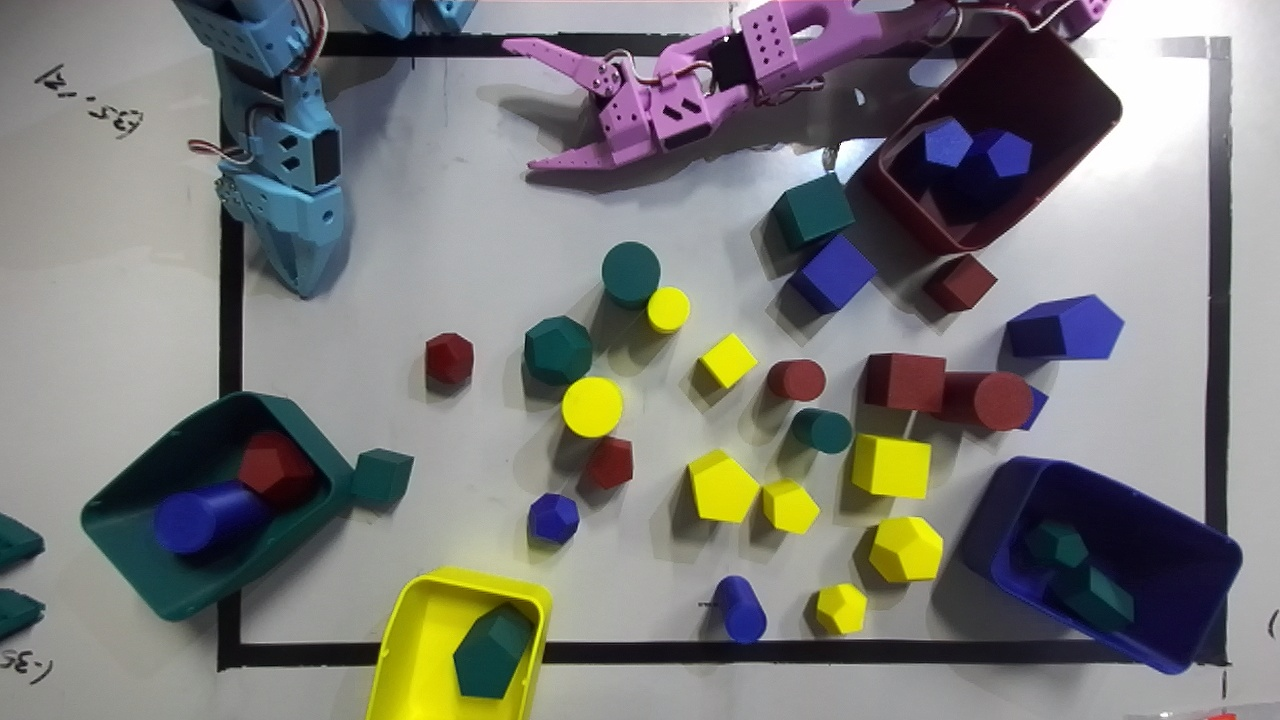bin: (81, 392, 412, 620), (957, 457, 1242, 674), (863, 21, 1121, 253), (366, 567, 551, 719)
cube: (788, 236, 876, 313), (772, 172, 854, 250), (851, 434, 930, 498), (865, 353, 945, 411), (923, 254, 996, 311), (350, 449, 413, 508), (699, 333, 757, 388)
cylinder: (153, 480, 272, 562), (930, 371, 1042, 430), (602, 241, 660, 308), (561, 377, 622, 437), (790, 409, 852, 453), (767, 359, 825, 401), (646, 287, 689, 333)
dodecahedron: (951, 129, 1032, 210), (238, 431, 315, 509), (869, 517, 942, 582), (524, 316, 591, 385), (1025, 520, 1088, 568), (425, 332, 473, 388), (527, 493, 579, 544), (816, 583, 866, 633)
hexagonal: (453, 603, 534, 698), (1006, 295, 1124, 359), (1050, 563, 1133, 630), (687, 449, 759, 522), (762, 479, 819, 533), (584, 435, 632, 488), (924, 118, 972, 167)
